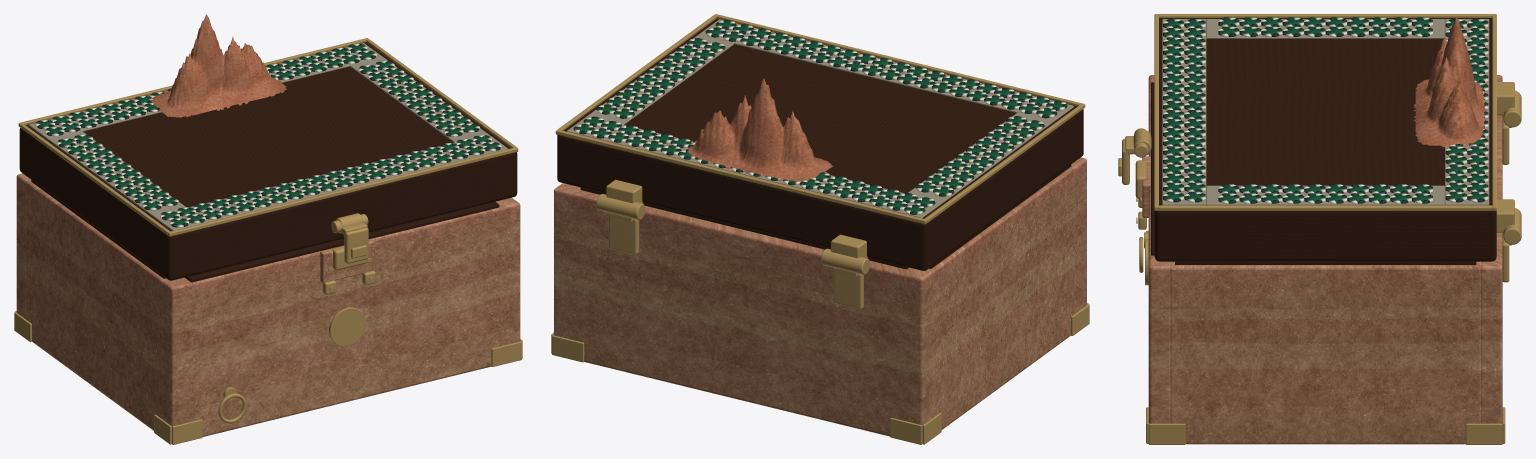
Rendered from morocco.glb.
3 renders of one model, left to right at view 1: azimuth 30°, elevation 25°; view 2: azimuth 150°, elevation 25°; view 3: azimuth 270°, elevation 25°, orthographic. The views are drawn at different scales.
Parts seen in each view (by area): view 1: Rose stone / front, Lid / polished slab, Rose stone / side, Ceramic tessera / deep green glaze, Atlas ridge / rear centre eroded massif, Ceramic tessera / ivory glaze, Ceramic tessera / near black green accents, Rim / long, Brass / crown long, Tile bed / long, Rose stone / rear, Tile bed / long.001 (+10 smaller); view 2: Rose stone / rear, Lid / polished slab, Rose stone / side, Ceramic tessera / deep green glaze, Ceramic tessera / near black green accents, Atlas ridge / rear centre eroded massif, Ceramic tessera / ivory glaze, Brass / crown long.001, Tile bed / long, Tile bed / long.001, Brass / crown long, Rose stone / front (+13 smaller); view 3: Rose stone / side.001, Lid / polished slab, Ceramic tessera / deep green glaze, Ceramic tessera / ivory glaze, Ceramic tessera / near black green accents, Atlas ridge / rear centre eroded massif, Rose stone / rear, Rose stone / front, Brass / crown side.001, Tile bed / long, Tile bed / return.001, Tile bed / return (+13 smaller).
Part boxes in pixels (bbox=[...]): Rose stone / front: bbox=[162, 197, 520, 436]; Lid / polished slab: bbox=[19, 42, 517, 280]; Rose stone / side: bbox=[25, 180, 167, 430]; Ceramic tessera / deep green glaze: bbox=[37, 44, 499, 226]; Atlas ridge / rear centre eroded massif: bbox=[151, 14, 286, 117]; Ceramic tessera / ivory glaze: bbox=[35, 43, 501, 227]; Ceramic tessera / near black green accents: bbox=[36, 44, 500, 227]; Rim / long: bbox=[185, 201, 499, 282]; Brass / crown long: bbox=[167, 147, 518, 236]; Tile bed / long: bbox=[153, 134, 507, 230]; Rose stone / rear: bbox=[16, 173, 30, 318]; Tile bed / long.001: bbox=[29, 43, 382, 139]; Rose stone / rear: bbox=[554, 183, 932, 436]; Lid / polished slab: bbox=[557, 18, 1083, 270]; Rose stone / side: bbox=[926, 164, 1077, 429]; Ceramic tessera / deep green glaze: bbox=[575, 21, 1065, 213]; Ceramic tessera / near black green accents: bbox=[573, 20, 1067, 214]; Atlas ridge / rear centre eroded massif: bbox=[685, 78, 832, 181]; Ceramic tessera / ivory glaze: bbox=[574, 20, 1065, 214]; Brass / crown long.001: bbox=[555, 129, 927, 224]; Tile bed / long: bbox=[699, 19, 1073, 121]; Tile bed / long.001: bbox=[567, 116, 941, 218]; Brass / crown long: bbox=[714, 14, 1085, 108]; Rose stone / front: bbox=[1071, 157, 1086, 311]; Rose stone / side.001: bbox=[1170, 261, 1480, 444]; Lid / polished slab: bbox=[1154, 18, 1496, 261]; Ceramic tessera / deep green glaze: bbox=[1164, 18, 1487, 203]; Ceramic tessera / ivory glaze: bbox=[1163, 17, 1488, 203]; Ceramic tessera / near black green accents: bbox=[1163, 17, 1488, 203]; Atlas ridge / rear centre eroded massif: bbox=[1413, 17, 1486, 147]; Rose stone / rear: bbox=[1481, 75, 1502, 423]; Rose stone / front: bbox=[1148, 75, 1170, 423]; Brass / crown side.001: bbox=[1158, 205, 1492, 210]; Tile bed / long: bbox=[1162, 19, 1206, 205]; Tile bed / return.001: bbox=[1206, 185, 1444, 205]; Tile bed / return: bbox=[1206, 19, 1444, 38].
Size of the model in its own units: 3.76 by 2.96 by 3.28.
8 materials, 3 textured.
